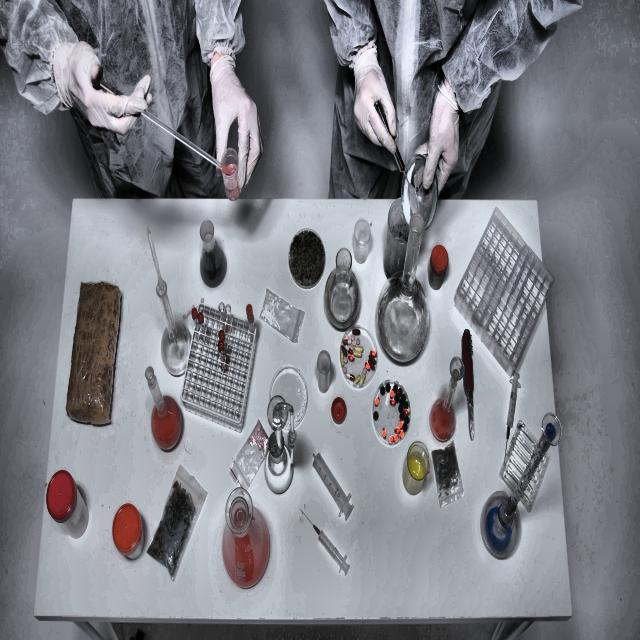gloved: (49, 27, 174, 156), (196, 50, 276, 188), (340, 37, 410, 169), (422, 73, 460, 225)
